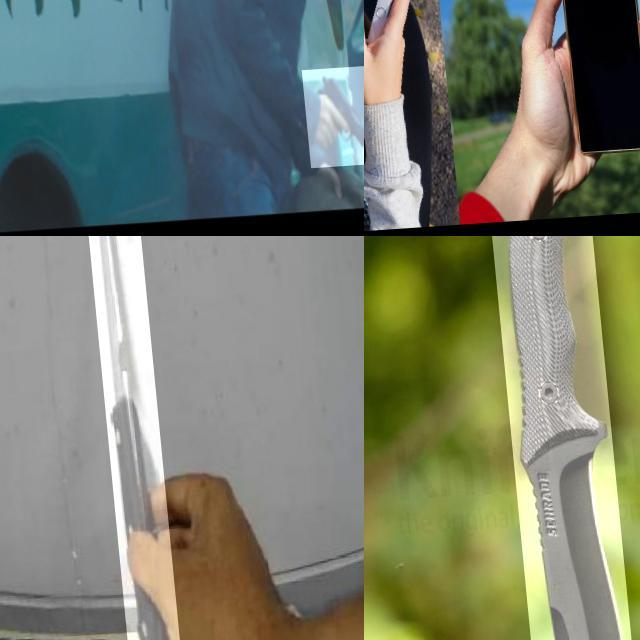-: (484, 236, 628, 640), (74, 236, 169, 640)
gun-knife-thesis - v11 Yolov5 augmented: (293, 73, 364, 175)
